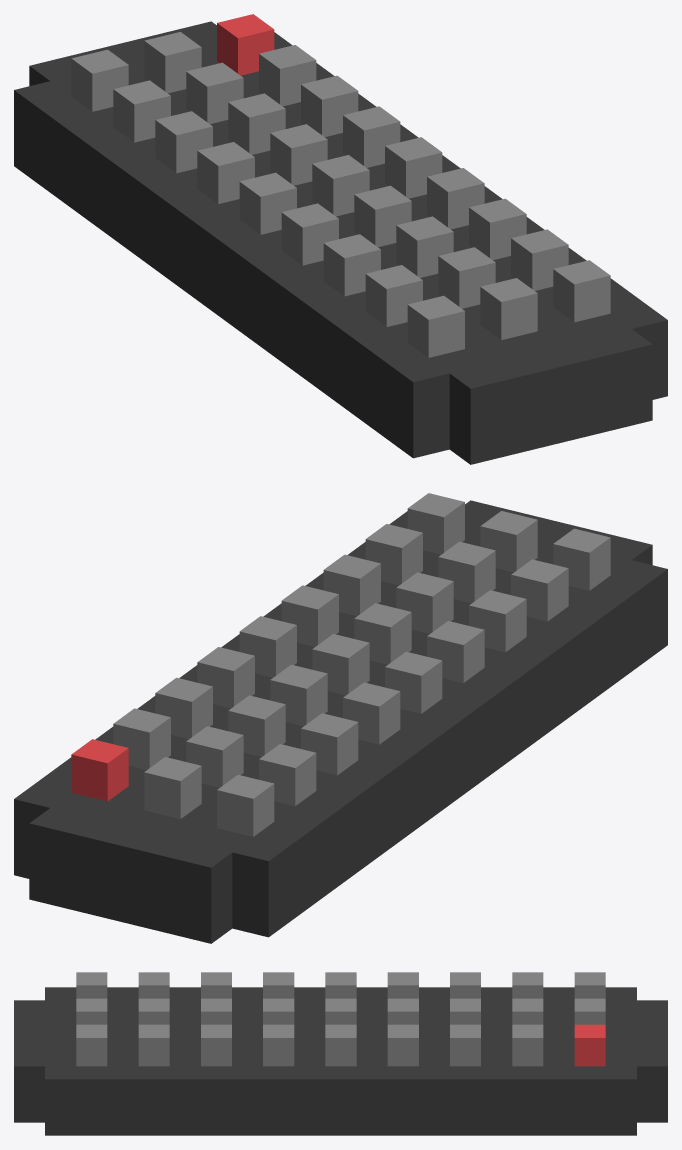
File: remote.fbx
3 views of the same model, one above another, from view 1: azimuth 30°, elevation 25°; view 2: azimuth 150°, elevation 25°; view 3: azimuth 270°, elevation 25° (orthographic). The views are drawn at different scales.
Parts seen in each view (by area): view 1: Cube; view 2: Cube; view 3: Cube.
Part boxes in pixels (bbox=[...]): Cube: bbox=[14, 14, 667, 464]; Cube: bbox=[14, 493, 667, 943]; Cube: bbox=[14, 972, 667, 1135].
Bounding box in the file's own units: 43.75 × 18.75 × 131.
